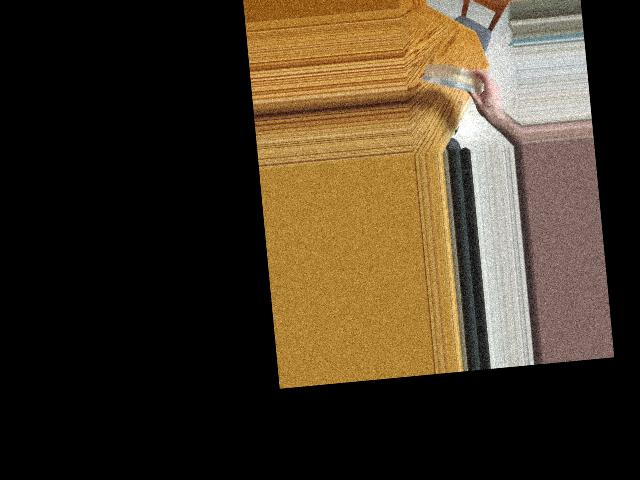cheese: (420, 61, 490, 92)
